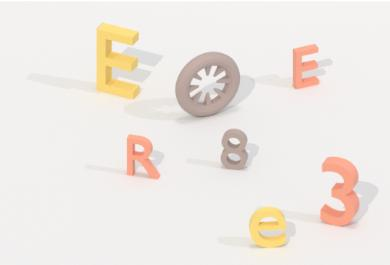0-TronLo: (172, 48, 243, 121)
3: (317, 152, 363, 230)
8: (217, 127, 254, 173)
E: (94, 19, 144, 102), (288, 41, 324, 94)
R: (123, 130, 164, 184)
e: (245, 202, 293, 251)
